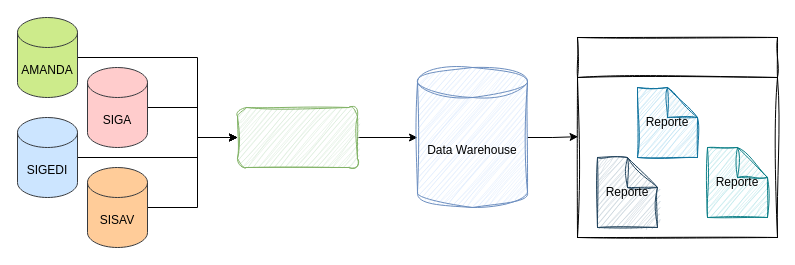
Some shapes in this 795 by 265 pixel diagram are drawn without their labels. The shapes that lost their labels are listed below. From the top down, each one's box as (x1, y1, x2, y2) in pixels, then its label:
(236, 106, 358, 168): Proceso de ETL
(576, 36, 778, 238): Analisis y generación de Reportes
